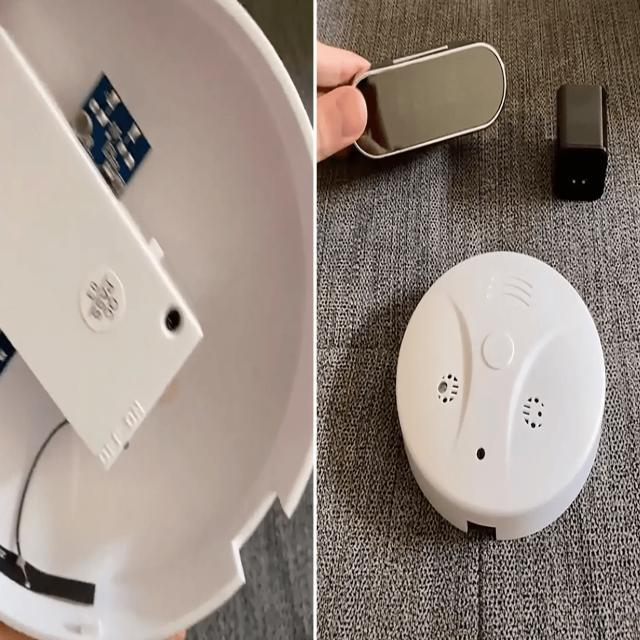hidden camera: (342, 37, 617, 222), (151, 288, 195, 346), (470, 442, 493, 469)
